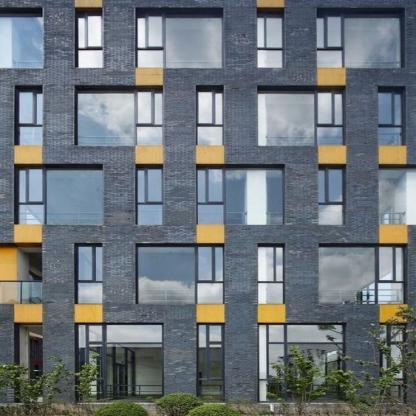Balcony: (0, 281, 41, 303)
Building Outline: (1, 1, 415, 416)
Facade: (1, 1, 415, 416)
Floor Slab: (1, 68, 415, 86), (1, 225, 415, 243), (1, 304, 415, 321), (1, 146, 415, 163)
Window: (76, 324, 162, 403), (259, 324, 345, 403), (15, 167, 102, 225), (319, 245, 406, 303), (198, 167, 285, 225), (137, 245, 223, 303), (75, 89, 162, 145), (317, 12, 403, 68), (136, 12, 222, 68), (258, 89, 344, 145), (0, 12, 43, 68), (381, 324, 407, 403), (198, 324, 224, 403), (380, 167, 415, 225), (75, 12, 102, 68), (257, 12, 284, 68), (258, 245, 283, 303), (77, 245, 102, 303), (379, 89, 404, 145), (198, 89, 223, 145), (17, 89, 42, 145), (319, 167, 343, 225), (138, 167, 162, 225)
